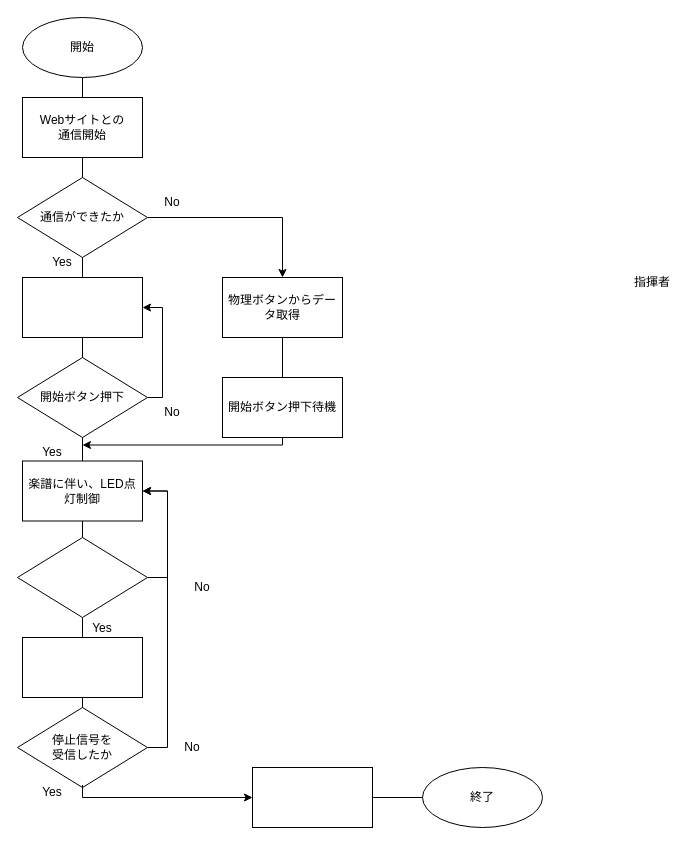
This 700x845 diagram has some shape labels left out. Here are the shapes that lost their labels. From the top down, the centre of each, then its label:
At [82,307]: "Webから楽器、テンポ、音量 の受信".
At [82,577]: "テンポ、楽器変更 が行われたか".
At [82,667]: "LEDにより 楽器Arduinoに共有".
At [312,797]: "演奏停止 LED消灯".
